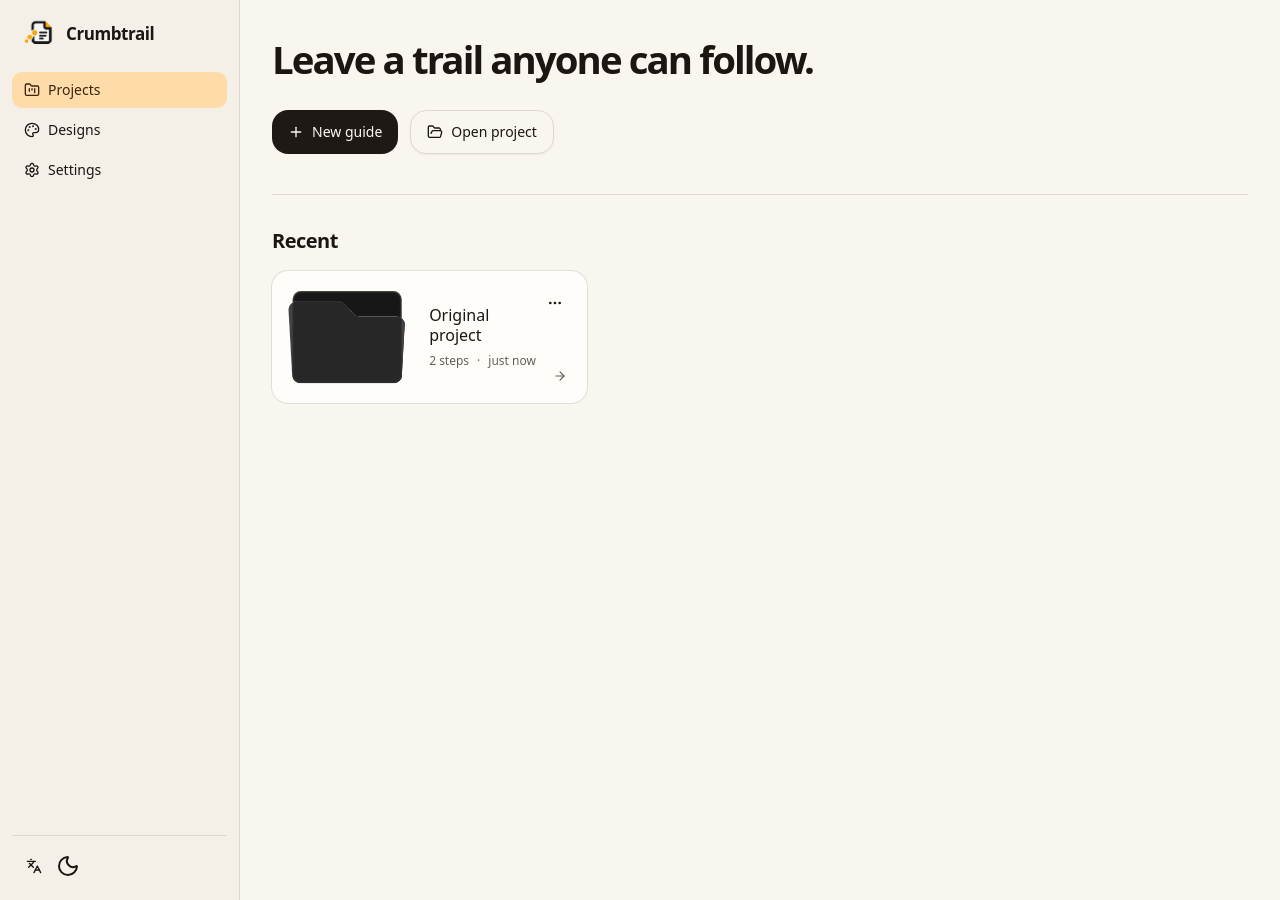
Scenario: Crumbtrail experience › renames a project from its card menu
Expected: the text "Original project" is shown, [429, 304, 489, 346]
Click the button named "Project menu" at [555, 303], box [539, 287, 571, 319]
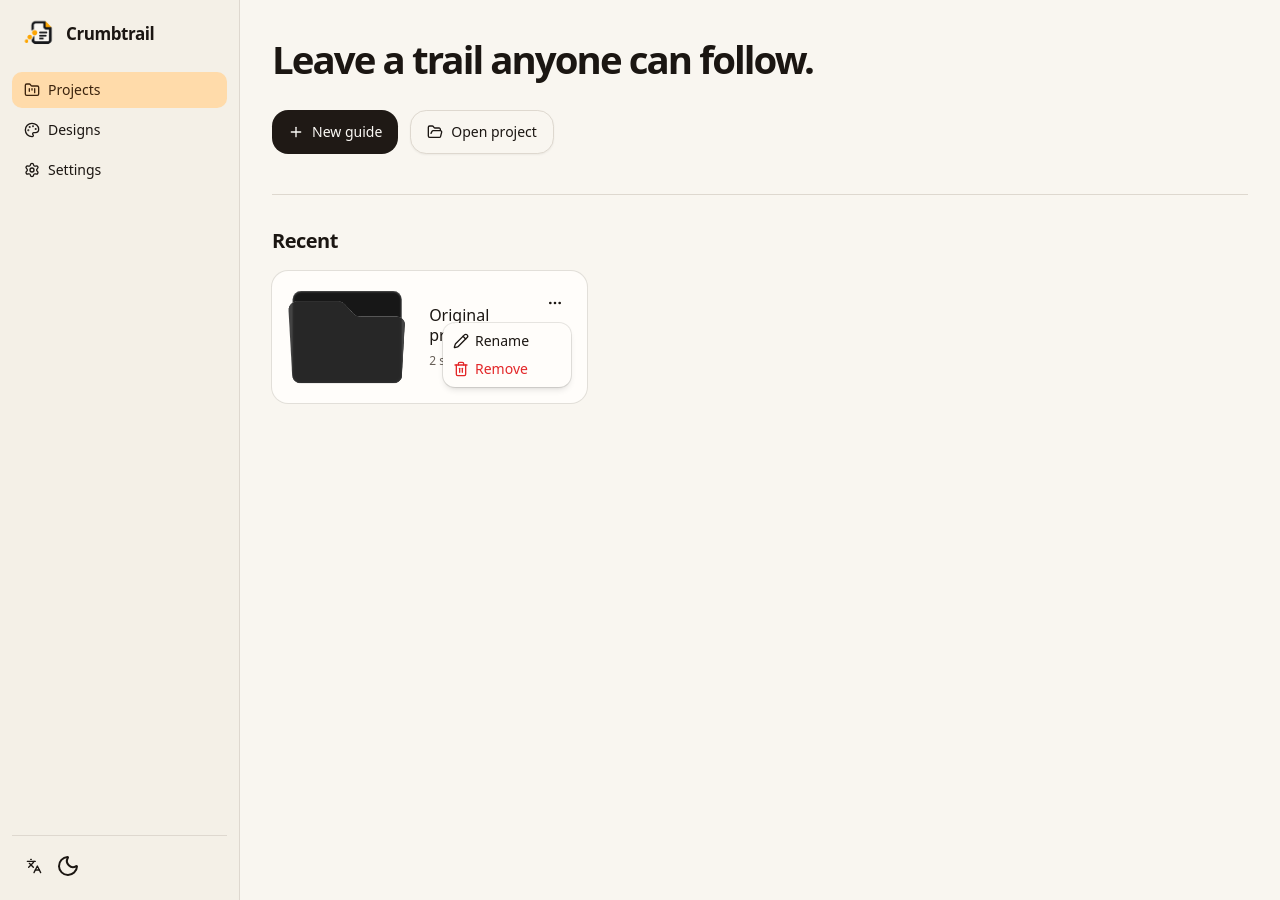
Click the menu item "Rename" at [491, 340], box [453, 331, 529, 350]
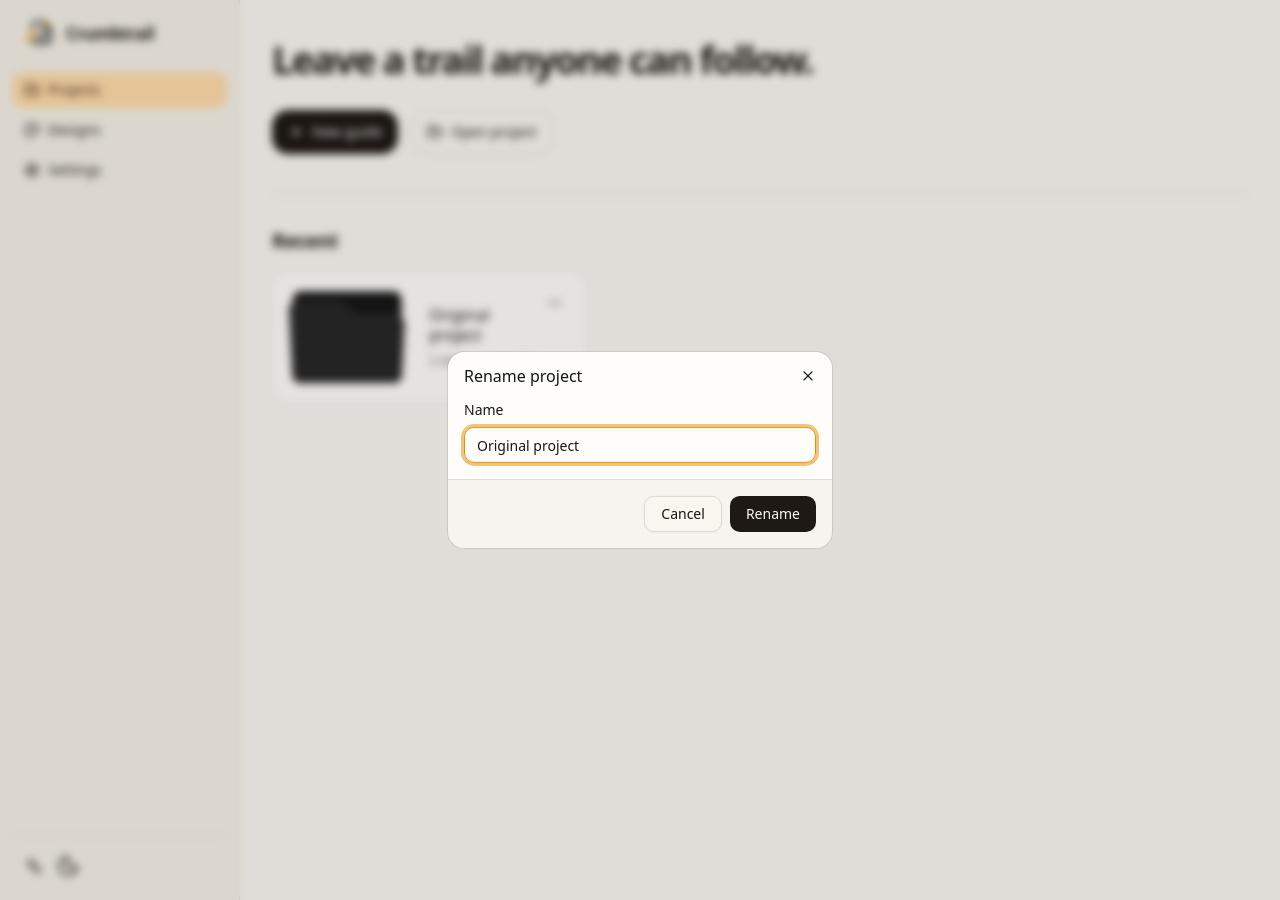
Replace the text in the field labelled "Name" with "Renamed project" at [640, 445], box [464, 427, 816, 463]
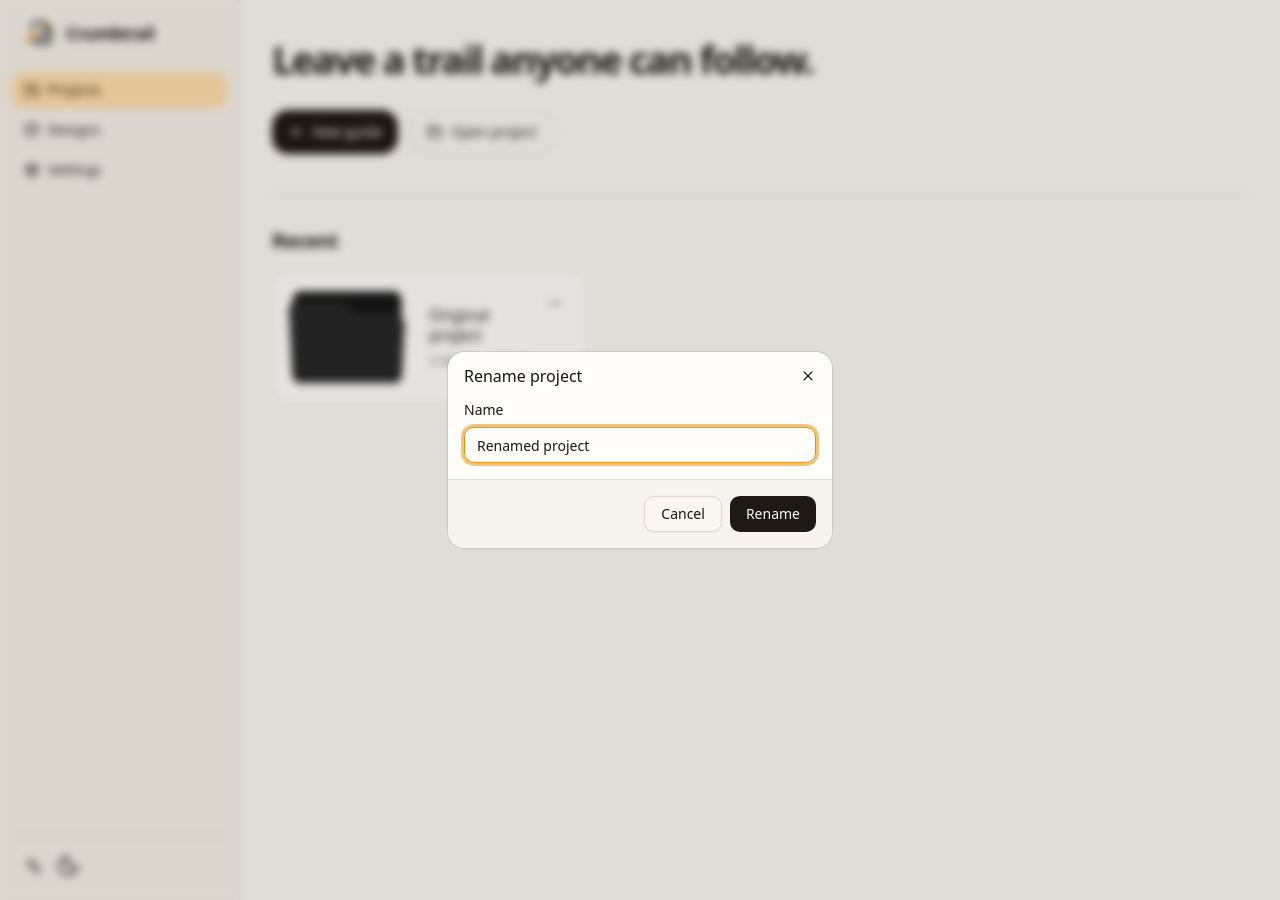
Click the button "Rename" at [773, 514], box [730, 496, 816, 532]
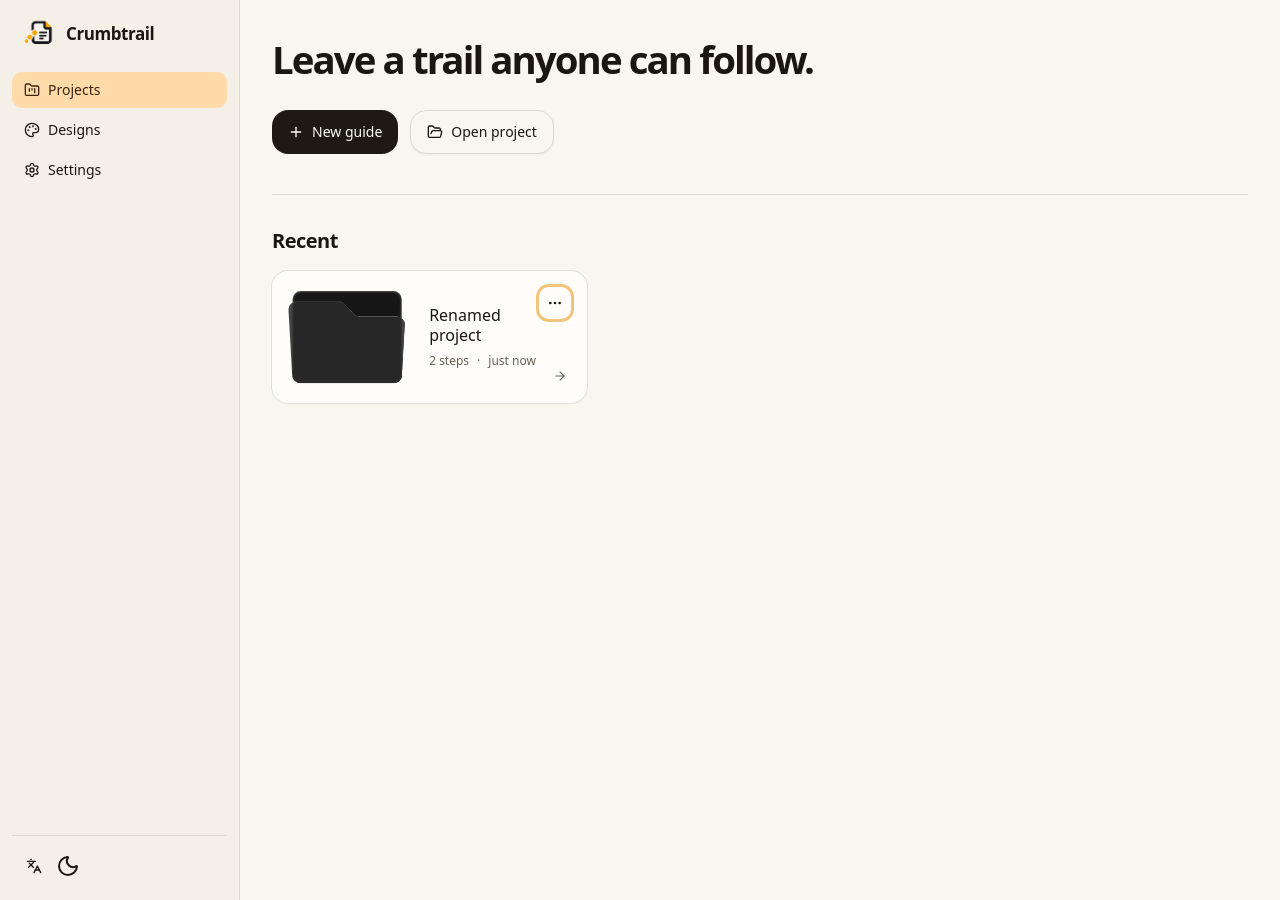
Result: the text "Renamed project" is shown at [429, 304, 501, 346]
